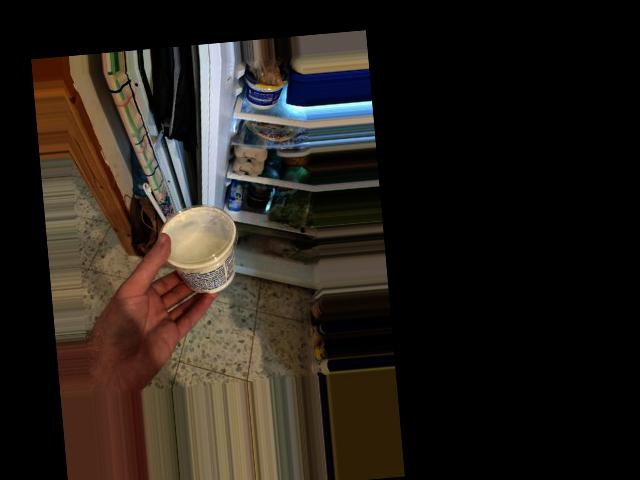cotage: (160, 208, 236, 298)
